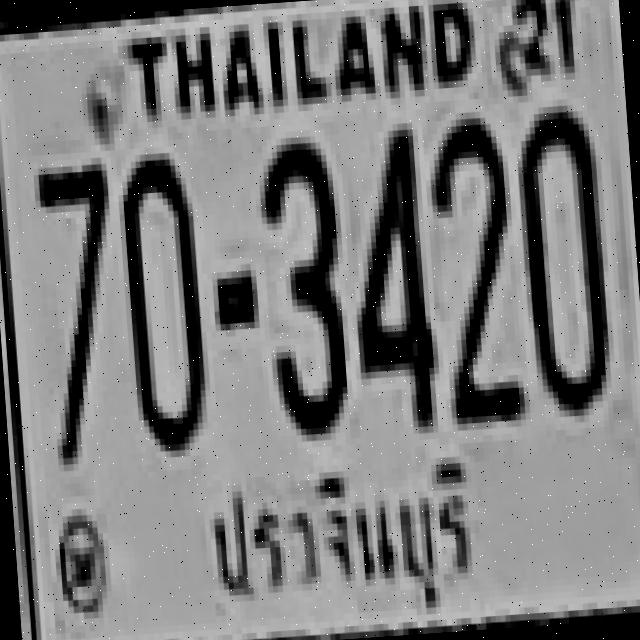0: (513, 106, 612, 408), (114, 151, 204, 446), (115, 152, 198, 370)
2: (426, 117, 518, 386)
3: (256, 138, 350, 433)
4: (338, 125, 438, 427)
7: (32, 160, 120, 436), (32, 160, 114, 358), (32, 160, 113, 339)
PrachinBuri: (190, 452, 487, 626)
